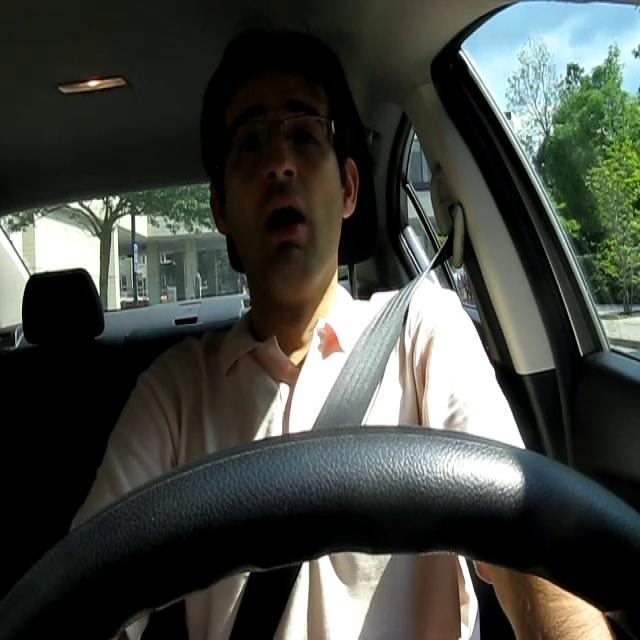open: (257, 194, 310, 243)
